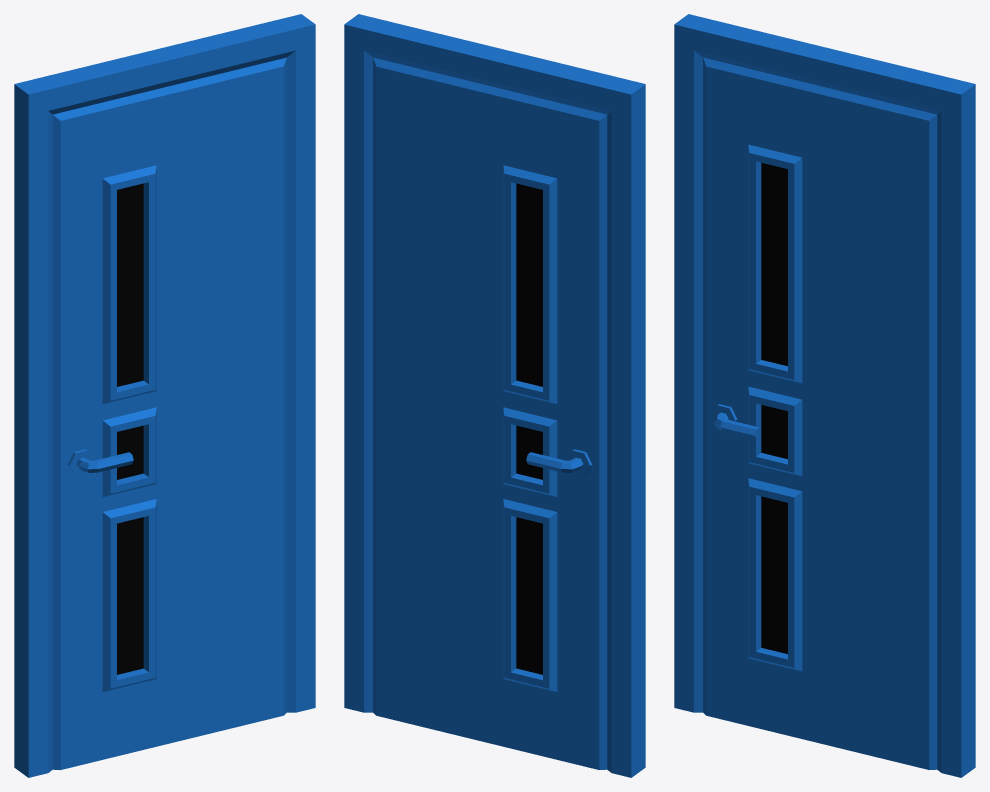
Rendered from space_door_2.fbx.
3 views of the same model, side by side, from view 1: azimuth 30°, elevation 25°; view 2: azimuth 150°, elevation 25°; view 3: azimuth 330°, elevation 25° (orthographic).
Parts seen in each view (by area): view 1: Symmetry_50; view 2: Symmetry_50; view 3: Symmetry_50.
Boxes of the visible parts, x1,y1,x2,y2 form: Symmetry_50: (14,14,315,777); Symmetry_50: (344,14,645,777); Symmetry_50: (674,14,975,777).
Size of the model in its own units: 92.39 by 210 by 21.69.
